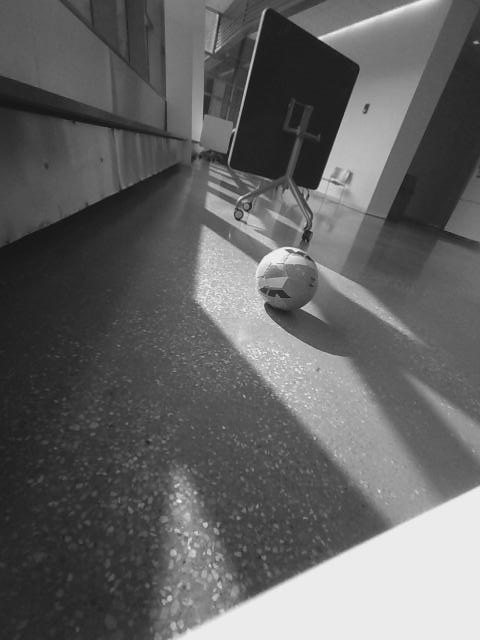ball: (254, 244, 323, 315)
